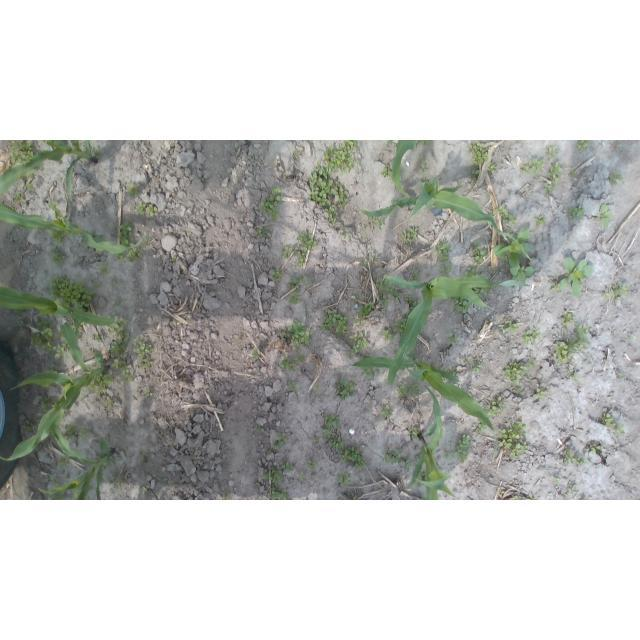Maize: (383, 275, 530, 386), (2, 322, 110, 465), (360, 180, 533, 261), (343, 344, 496, 431), (1, 201, 146, 256), (406, 385, 458, 500), (0, 140, 96, 202), (36, 436, 114, 500), (0, 286, 116, 327), (391, 141, 421, 200)
Weeds: (306, 161, 351, 228), (40, 276, 97, 313), (494, 227, 531, 277), (558, 257, 593, 298), (324, 140, 360, 173), (279, 318, 313, 350), (30, 317, 56, 356), (495, 419, 525, 449), (258, 187, 282, 220), (7, 140, 38, 164), (132, 337, 153, 372), (320, 309, 348, 334), (336, 444, 364, 468), (568, 324, 590, 353), (599, 412, 625, 436), (437, 238, 452, 278), (503, 362, 529, 385), (87, 372, 113, 395), (353, 301, 375, 327), (495, 205, 518, 228), (468, 142, 489, 167), (510, 265, 535, 286), (595, 203, 614, 229), (454, 434, 471, 462), (603, 283, 629, 301), (297, 229, 318, 251), (484, 397, 504, 420), (118, 222, 135, 249), (322, 412, 341, 436), (449, 296, 474, 314), (279, 355, 305, 372), (134, 201, 158, 219), (397, 380, 422, 397), (54, 332, 69, 360), (520, 158, 544, 175), (335, 379, 355, 399), (382, 448, 404, 465), (547, 161, 563, 184), (472, 243, 488, 266), (552, 342, 568, 364), (37, 395, 56, 413), (107, 316, 127, 333), (268, 487, 293, 500), (328, 435, 345, 454), (348, 332, 368, 348), (70, 320, 85, 341), (401, 228, 419, 245), (509, 443, 528, 459), (265, 468, 284, 484), (567, 205, 584, 222), (64, 423, 81, 440), (126, 242, 142, 260), (51, 247, 66, 266), (376, 277, 393, 293), (523, 330, 542, 344), (110, 341, 127, 356), (273, 432, 288, 449), (288, 275, 309, 287), (51, 229, 66, 245), (394, 318, 407, 336), (295, 247, 306, 268), (112, 356, 128, 370), (280, 246, 296, 260), (408, 295, 421, 312), (368, 217, 385, 230), (469, 287, 489, 298), (380, 166, 394, 181), (562, 449, 574, 466), (91, 147, 105, 161), (58, 454, 72, 468), (608, 173, 623, 186), (122, 369, 135, 384), (503, 321, 519, 333), (535, 215, 549, 228), (288, 291, 301, 305), (336, 471, 349, 485), (577, 140, 592, 152), (400, 457, 412, 472), (378, 294, 390, 309), (572, 455, 588, 466), (272, 266, 283, 282), (561, 312, 574, 325), (476, 420, 489, 433), (22, 420, 35, 433), (108, 456, 121, 469), (380, 404, 392, 418), (383, 327, 395, 341), (533, 388, 548, 399), (565, 370, 580, 381), (588, 443, 604, 453), (545, 146, 557, 159), (364, 366, 377, 378), (281, 462, 295, 473), (419, 156, 428, 173), (23, 168, 38, 178), (258, 226, 273, 236), (464, 267, 479, 277), (26, 180, 37, 193), (12, 192, 25, 203), (126, 183, 140, 193), (368, 253, 382, 263), (101, 263, 112, 275), (119, 332, 130, 344), (307, 459, 318, 471), (50, 491, 64, 500), (349, 346, 360, 357), (115, 253, 130, 261), (287, 380, 297, 392), (411, 269, 421, 281), (417, 474, 426, 487), (543, 184, 553, 195), (472, 168, 481, 180), (49, 475, 57, 488), (391, 290, 399, 302), (488, 163, 497, 173), (551, 284, 561, 293), (471, 364, 481, 373), (448, 333, 457, 343), (15, 321, 25, 330), (410, 428, 420, 437), (343, 228, 352, 238), (569, 167, 577, 178), (92, 334, 103, 342), (143, 388, 154, 396), (420, 180, 429, 189), (353, 295, 363, 303), (252, 348, 258, 361), (444, 452, 452, 461), (140, 452, 148, 461), (528, 492, 537, 500), (80, 428, 88, 437), (87, 351, 97, 358), (145, 235, 151, 246), (553, 476, 561, 484), (47, 364, 55, 372), (104, 399, 112, 407), (464, 356, 471, 365), (360, 354, 372, 359), (421, 140, 431, 146), (528, 360, 536, 367), (385, 140, 392, 148), (571, 485, 578, 492), (142, 486, 149, 493), (509, 496, 520, 500), (514, 388, 520, 395), (312, 436, 319, 442), (295, 151, 301, 157), (618, 372, 623, 379), (255, 428, 262, 433), (116, 301, 121, 308), (172, 255, 177, 261), (391, 199, 397, 204), (222, 496, 229, 500), (300, 475, 304, 482), (112, 280, 117, 285), (350, 496, 356, 500), (236, 336, 240, 341)
